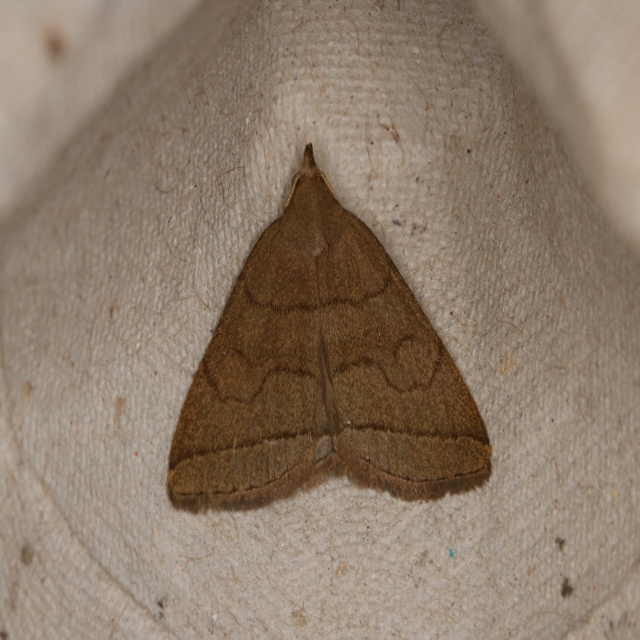Moths and butterflies: (164, 139, 495, 517)
